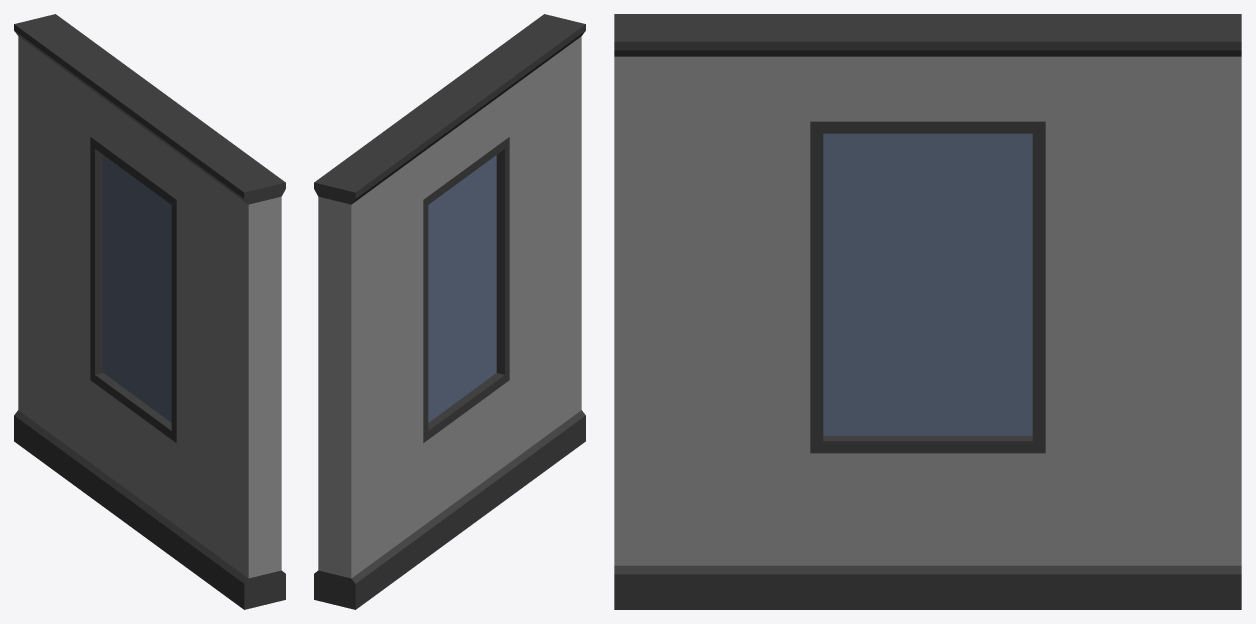
File: Neo_WallWindow_01_snaps001.fbx
3 renders of one model, left to right at view 1: azimuth 30°, elevation 25°; view 2: azimuth 150°, elevation 25°; view 3: azimuth 270°, elevation 25°, orthographic. The views are drawn at different scales.
Visible parts, largest first — view 1: Neo_WallWindow_01_snaps001; view 2: Neo_WallWindow_01_snaps001; view 3: Neo_WallWindow_01_snaps001.
Part boxes in pixels (box(x1,y1,x2,y2)): Neo_WallWindow_01_snaps001: box(14, 14, 285, 609); Neo_WallWindow_01_snaps001: box(314, 14, 585, 609); Neo_WallWindow_01_snaps001: box(614, 14, 1241, 609).
Size of the model in its own units: 31.25 by 300 by 300.
